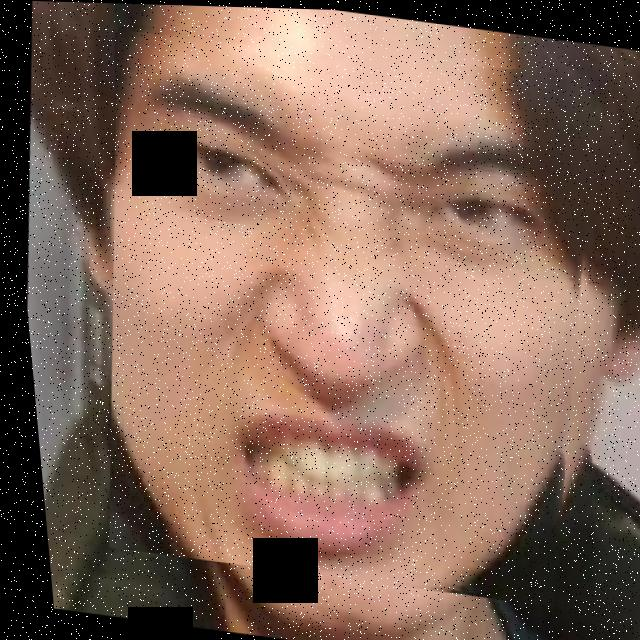anger: (61, 15, 633, 609)
